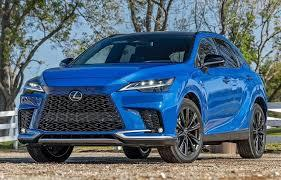lexus: (64, 88, 85, 106)
